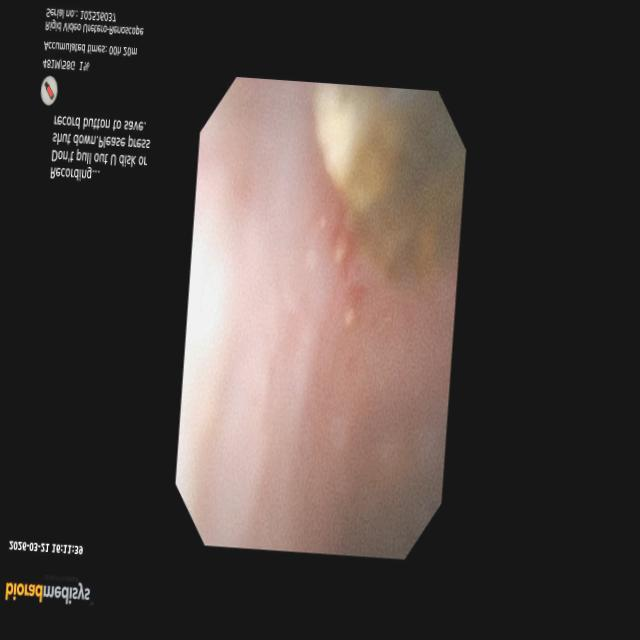stone-new: (313, 84, 465, 285)
